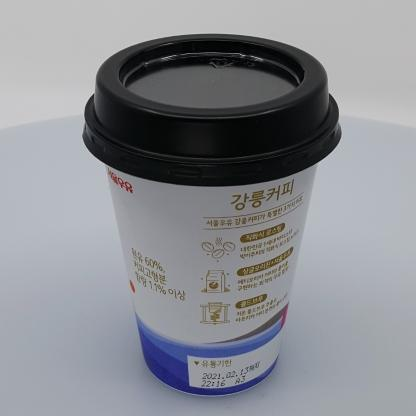----------250ML: (81, 33, 342, 397)
